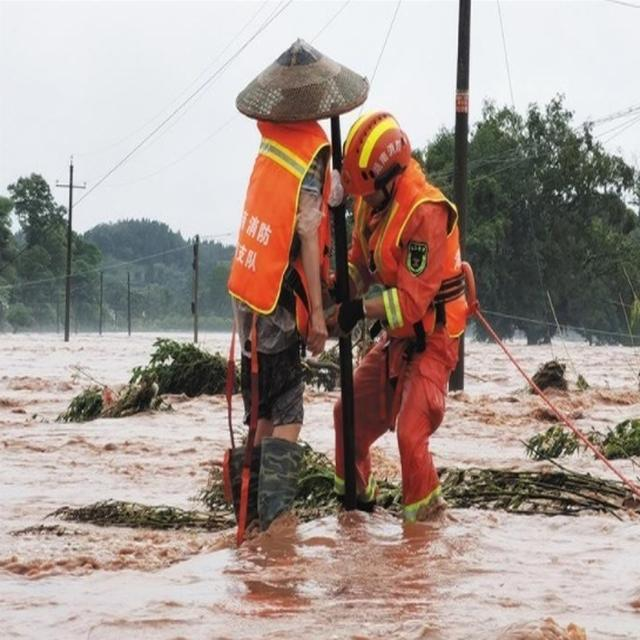Person-RiskLevel2: (341, 105, 492, 524), (223, 51, 322, 545)
